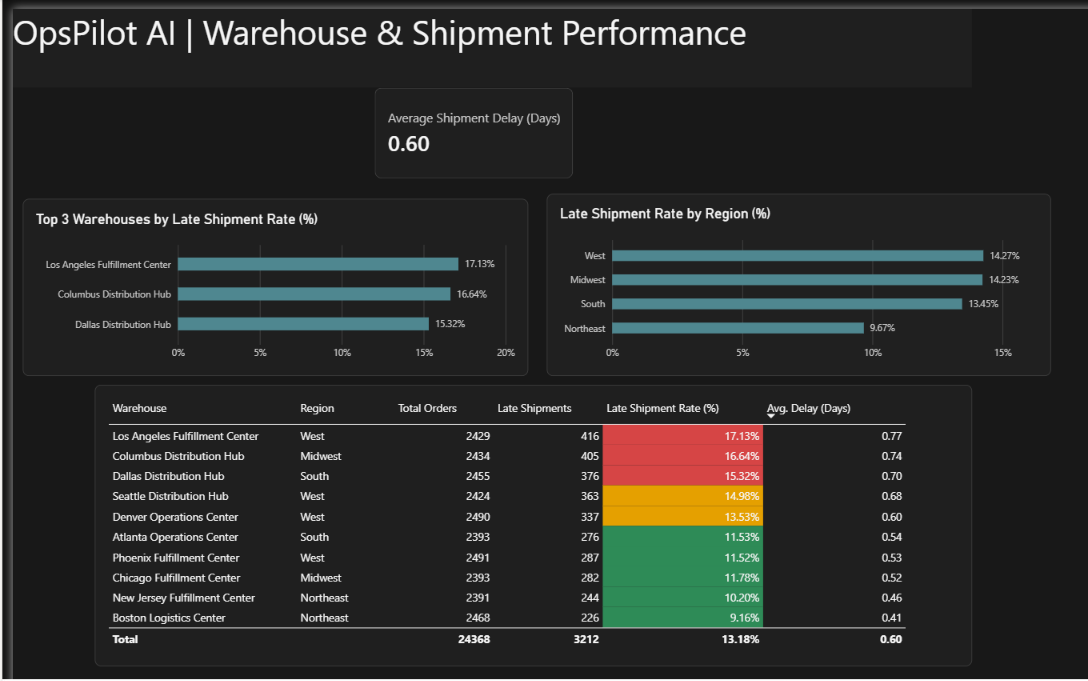

What the dashboard file says about the page in this screenshot:
{"tool":"powerbi","page":{"name":"Warehouse & Shipment Performance","canvas":[1920,1080],"ordinal":2},"visuals":[{"type":"clusteredBarChart","title":"Top 3 Warehouses by Late Shipment Rate (%)","fields":{"Category":["warehouse_performance.warehouse_name"],"Y":["warehouse_performance.Warehouse Late Shipment Rate"]},"box":[13,244.2,648.1,227.3],"z":0},{"type":"clusteredBarChart","title":"Late Shipment Rate by Region (%)","fields":{"Category":["warehouse_performance.region"],"Y":["warehouse_performance.Warehouse Late Shipment Rate"]},"box":[684.1,236.6,646.8,233.8],"z":1000},{"type":"cardVisual","title":"Average Shipment Delay (Days)","fields":{"Data":["warehouse_performance.Weighted Avg Delay Days"]},"box":[463.6,101.3,254,116.1],"z":2000},{"type":"textbox","box":[0,0,1229.9,101.1],"z":3000},{"type":"tableEx","fields":{"Values":["warehouse_performance.warehouse_name","warehouse_performance.region","Sum(warehouse_performance.total_orders)","Sum(warehouse_performance.late_shipments)","warehouse_performance.Warehouse Late Shipment Rate","warehouse_performance.Weighted Avg Delay Days"]},"box":[105.2,481.8,1124.7,361],"z":4000}]}

Visuals, with their boxes on the page's 1920x1080 design canvas (x1, y1, x2, y2). These are canvas units, not pixel positions in the 1088x681 screenshot, which may show the page scaled, cropped or inside an application window:
"Top 3 Warehouses by Late Shipment Rate (%)" clusteredBarChart: <region>13, 244, 661, 472</region>
"Late Shipment Rate by Region (%)" clusteredBarChart: <region>684, 237, 1331, 470</region>
"Average Shipment Delay (Days)" cardVisual: <region>464, 101, 718, 217</region>
textbox: <region>0, 0, 1230, 101</region>
tableEx - warehouse_performance.warehouse_name x warehouse_performance.region: <region>105, 482, 1230, 843</region>
